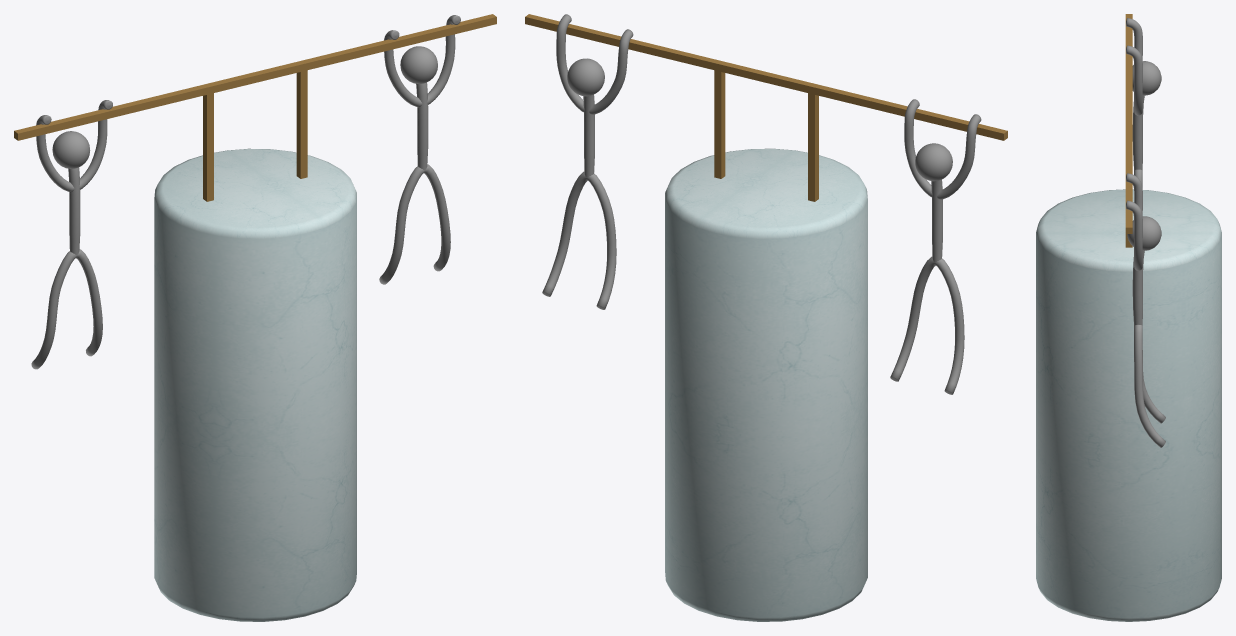
File: Decor_02.FBX
3 renders of one model, left to right at view 1: azimuth 30°, elevation 25°; view 2: azimuth 150°, elevation 25°; view 3: azimuth 270°, elevation 25°, orthographic. The views are drawn at different scales.
Parts seen in each view (by area): view 1: Decor_02, Decor_02man; view 2: Decor_02, Decor_02man; view 3: Decor_02, Decor_02man.
Part boxes in pixels (x1,y1,x2,y2): Decor_02: (14, 14, 496, 621); Decor_02man: (31, 15, 460, 369); Decor_02: (525, 14, 1007, 621); Decor_02man: (542, 14, 981, 394); Decor_02: (1036, 14, 1221, 621); Decor_02man: (1126, 18, 1165, 447).
Bounding box in the file's own units: 462 × 478 × 170.
